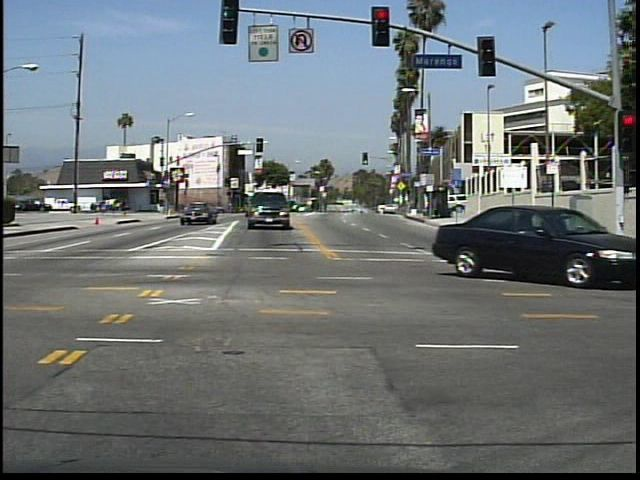person: (120, 195, 132, 219)
